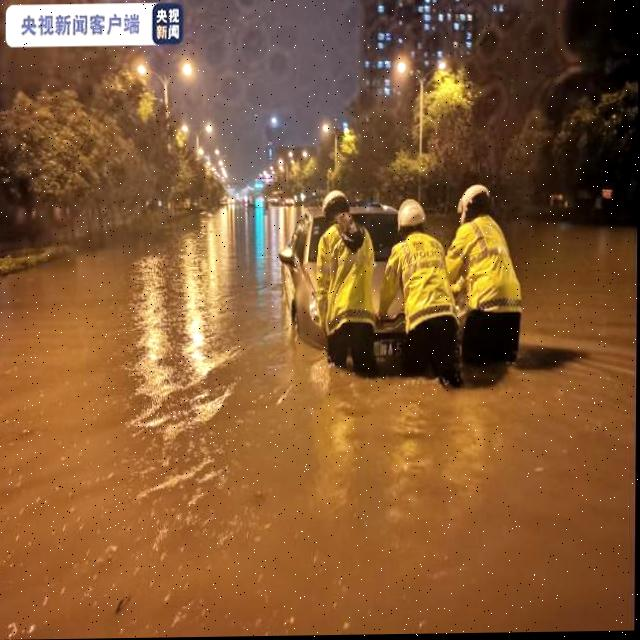rescuer: (444, 171, 529, 381), (382, 198, 465, 388), (306, 190, 382, 379)
